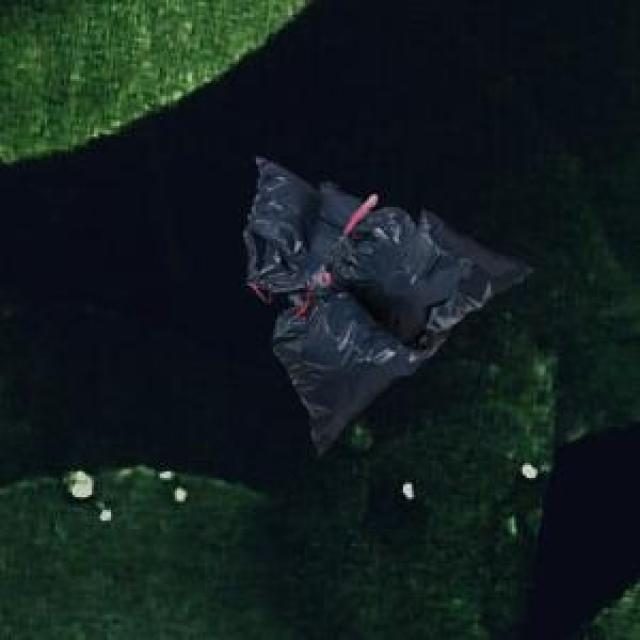waste: (244, 158, 530, 452)
